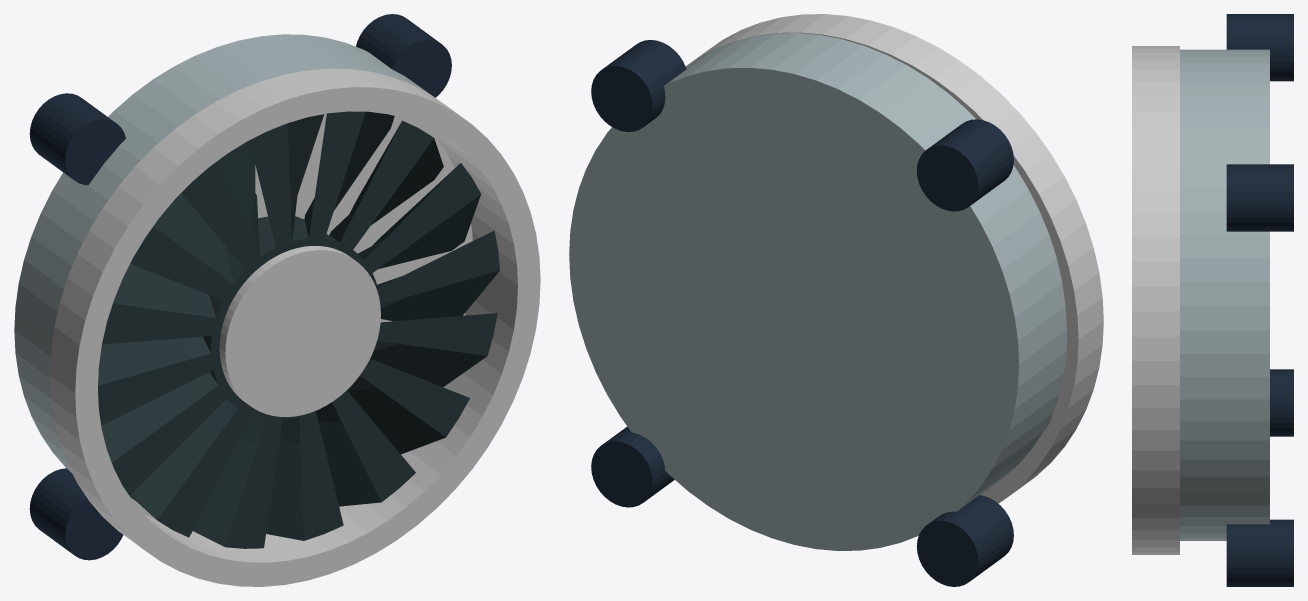
Rendered from Fan.obj.
3 views of the same model, side by side, from view 1: azimuth 30°, elevation 25°; view 2: azimuth 150°, elevation 25°; view 3: azimuth 270°, elevation 25° (orthographic). The views are drawn at different scales.
Visible parts, largest first — view 1: Fan_Cube.223; view 2: Fan_Cube.223; view 3: Fan_Cube.223.
Part boxes in pixels (x1,y1,x2,y2): Fan_Cube.223: (14, 14, 540, 586); Fan_Cube.223: (569, 14, 1103, 586); Fan_Cube.223: (1132, 14, 1293, 586).
Bounding box in the file's own units: 2.01 × 2.01 × 0.6395.
Materials: 2 (1 with a texture image).
